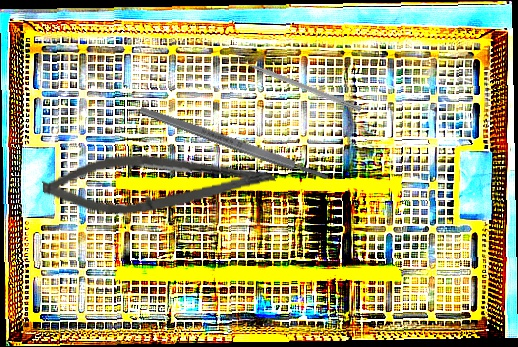Chopper: (232, 48, 365, 113)
Micro Scissor: (40, 140, 278, 223)
Scalpel Handle: (138, 103, 330, 184)
